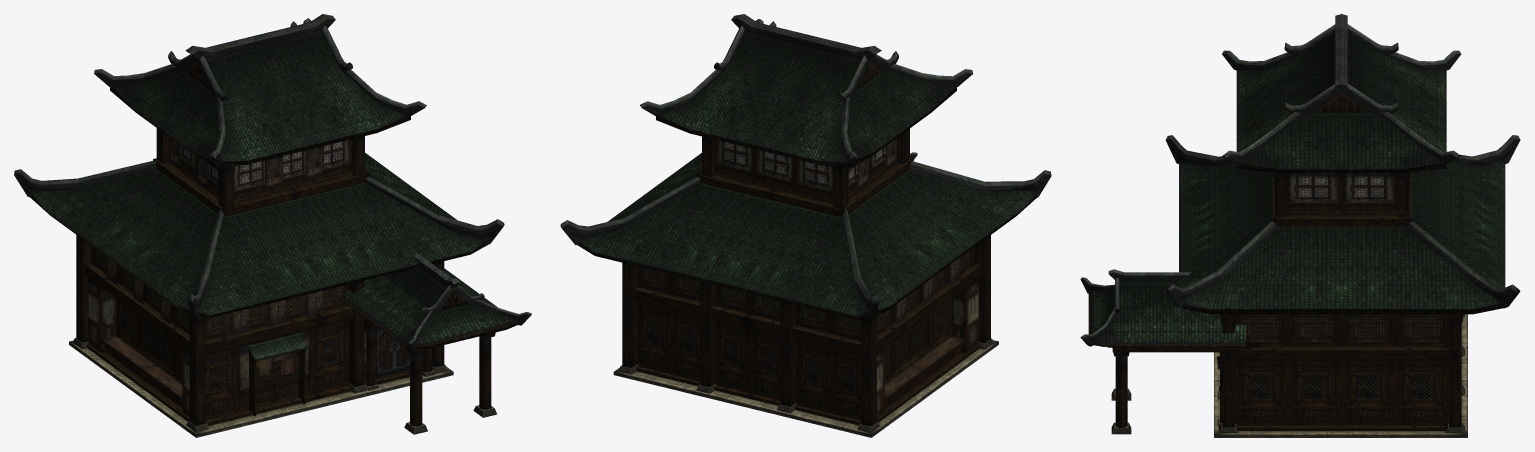
File: c1-011-workhouse-01.glb
The picture shows the model from 3 angles, left to right: view 1: azimuth 30°, elevation 25°; view 2: azimuth 150°, elevation 25°; view 3: azimuth 270°, elevation 25°; orthographic projection.
Visible parts, largest first — view 1: c1-011-workhouse-02; view 2: c1-011-workhouse-02; view 3: c1-011-workhouse-02.
Part boxes in pixels (x1,y1,x2,y2): c1-011-workhouse-02: (14, 14, 531, 437); c1-011-workhouse-02: (560, 14, 1051, 437); c1-011-workhouse-02: (1080, 14, 1520, 437).
Size of the model in its own units: 13.67 by 13.55 by 16.44.
3 materials, 3 textured.
